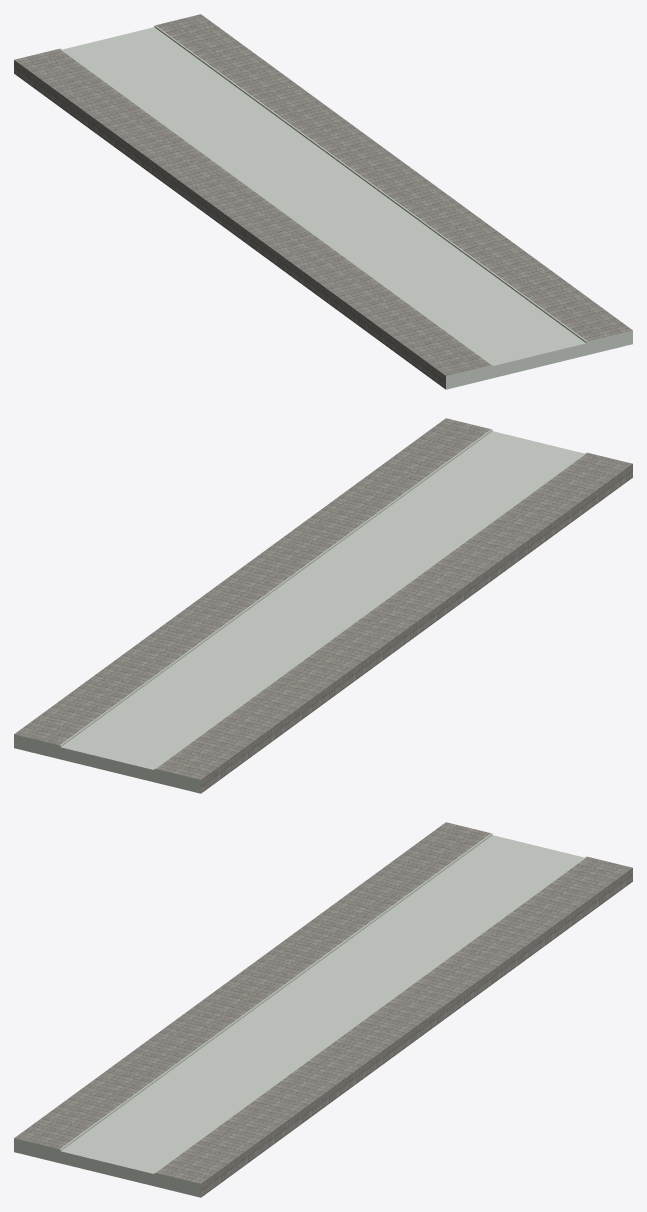
File: SingleStraightLong_high.fbx
3 renders of one model, top to bottom at view 1: azimuth 30°, elevation 25°; view 2: azimuth 150°, elevation 25°; view 3: azimuth 330°, elevation 25°, orthographic.
Visible parts, largest first — view 1: materialC150, materialA150, materialB150, materialD150, materialE150; view 2: materialC150, materialA150, materialB150, materialD150, materialE150; view 3: materialC150, materialA150, materialB150, materialD150, materialE150.
Part boxes in pixels (left/top/right/bottom): materialC150: left=14, top=14, right=632, bottom=389; materialA150: left=62, top=27, right=585, bottom=365; materialB150: left=446, top=330, right=632, bottom=389; materialD150: left=59, top=25, right=587, bottom=364; materialE150: left=154, top=26, right=586, bottom=342; materialC150: left=14, top=418, right=632, bottom=793; materialA150: left=61, top=431, right=584, bottom=769; materialB150: left=14, top=734, right=200, bottom=793; materialD150: left=59, top=429, right=587, bottom=768; materialE150: left=60, top=430, right=492, bottom=746; materialC150: left=14, top=822, right=632, bottom=1197; materialA150: left=61, top=835, right=584, bottom=1173; materialB150: left=14, top=1138, right=200, bottom=1197; materialD150: left=59, top=833, right=587, bottom=1172; materialE150: left=60, top=834, right=492, bottom=1150.
Size of the model in its own units: 25.6 by 1.8 by 102.
